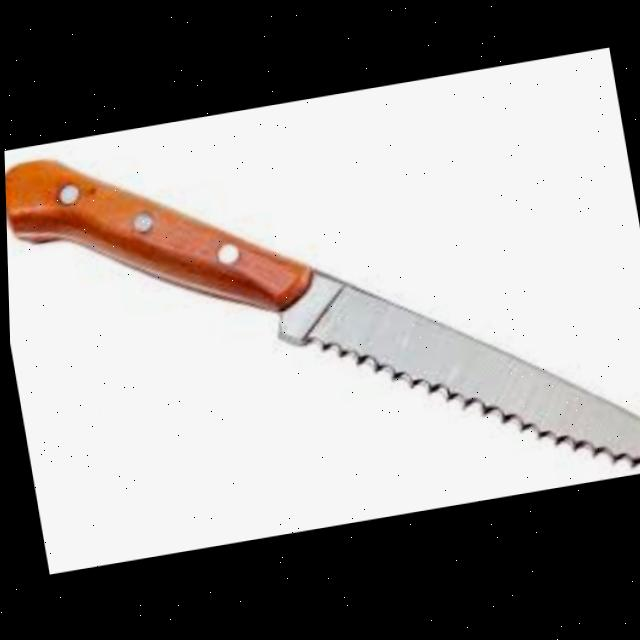Knife: (2, 60, 640, 570)
